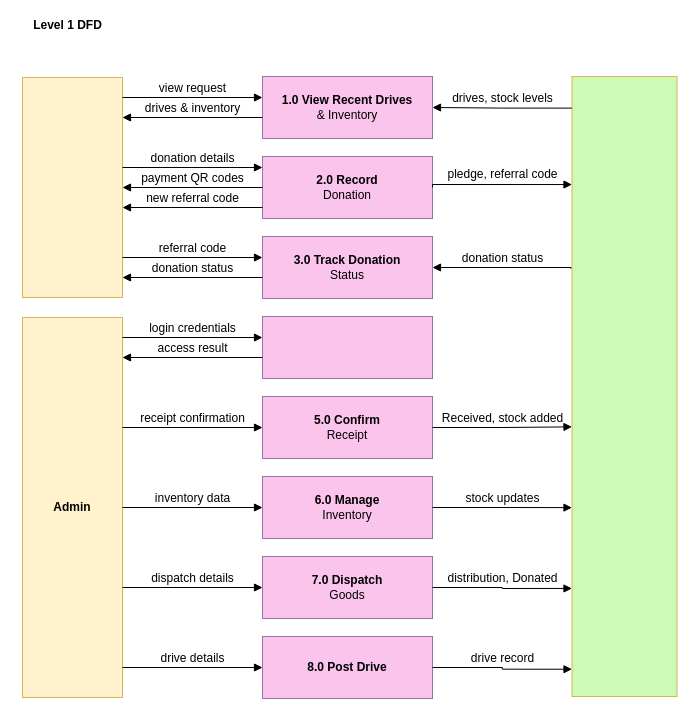
Image size: 694x716. Some labels were removed from this diagram. Here are the shapes that lost their labels. From the top down, the centre of each, then its label:
the point at 72,187: Donor / student
the point at 347,347: 4.0 Authenticate Admin
the point at 624,386: D1 MISSC Central DB
